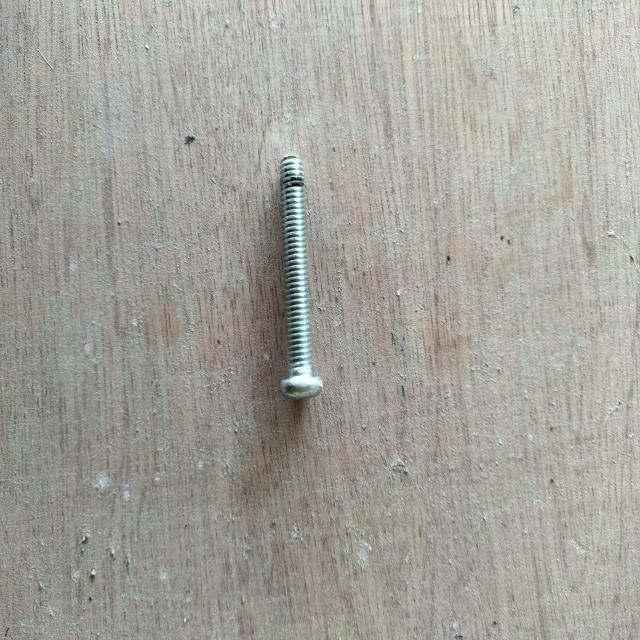bolt: (279, 154, 323, 401)
